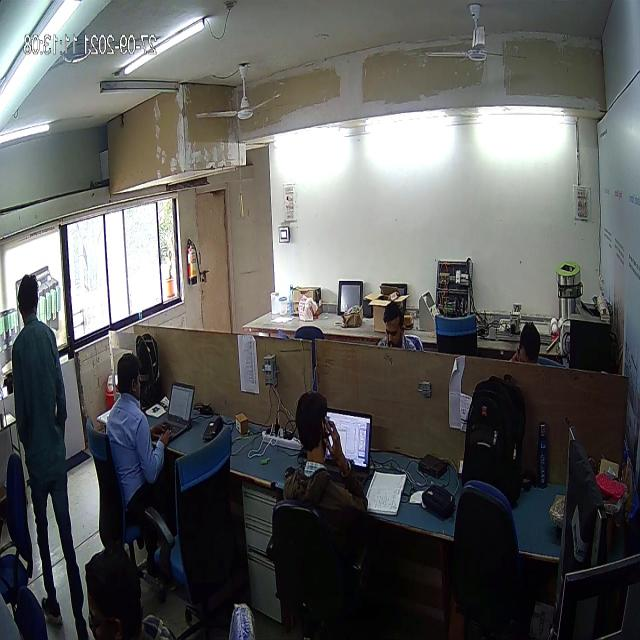adult: (5, 260, 86, 640), (95, 344, 173, 572)
